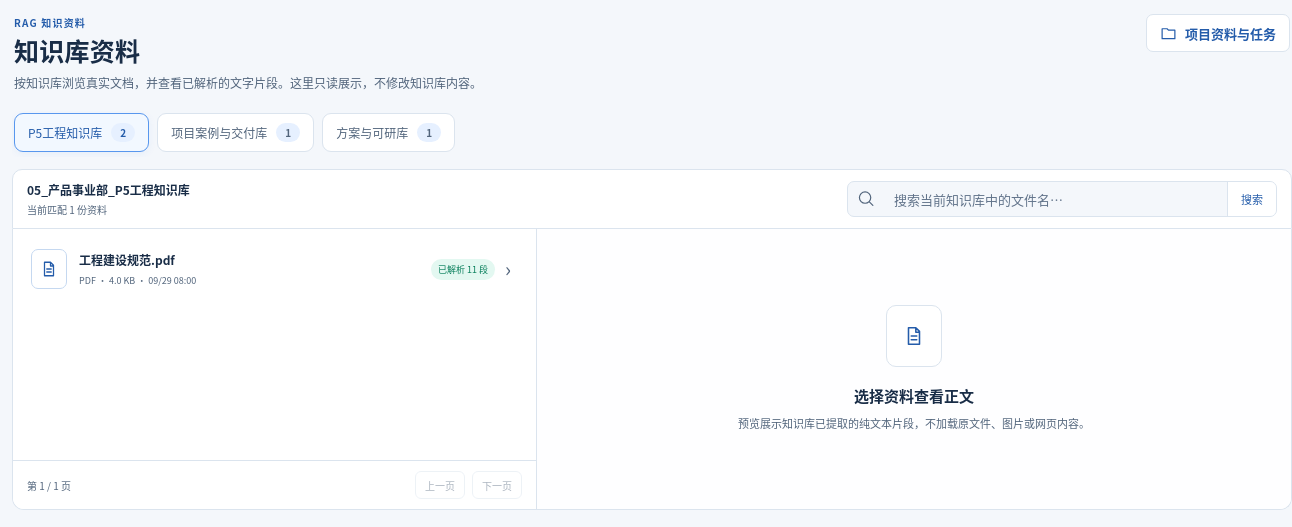
Test case: KnowledgeMaterials › 权限撤销后清空文档和正文并允许重新检查
Click the button "工程建设规范.pdf PDF · 4.0 KB · 09/29 08:00 已解析 11 段 ›". click: (49, 269)
box: [20, 236, 529, 302]
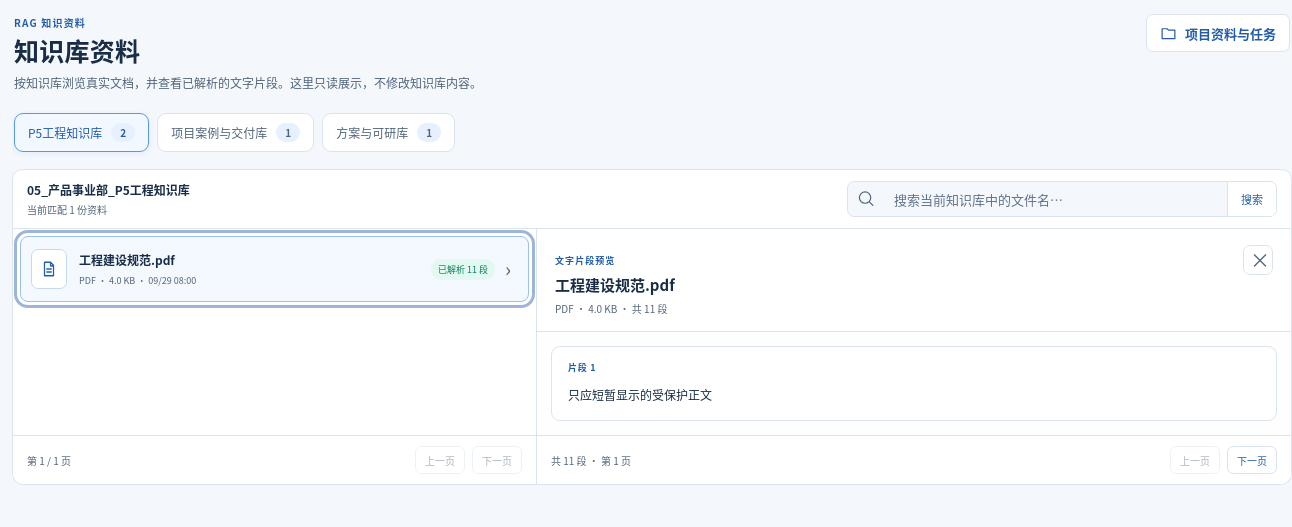
Now the text "只应短暂显示的受保护正文" is shown, box [568, 386, 712, 403]
Click the button "下一页" in the row of "段 · 第". click: (1252, 460)
box: [1227, 446, 1277, 474]
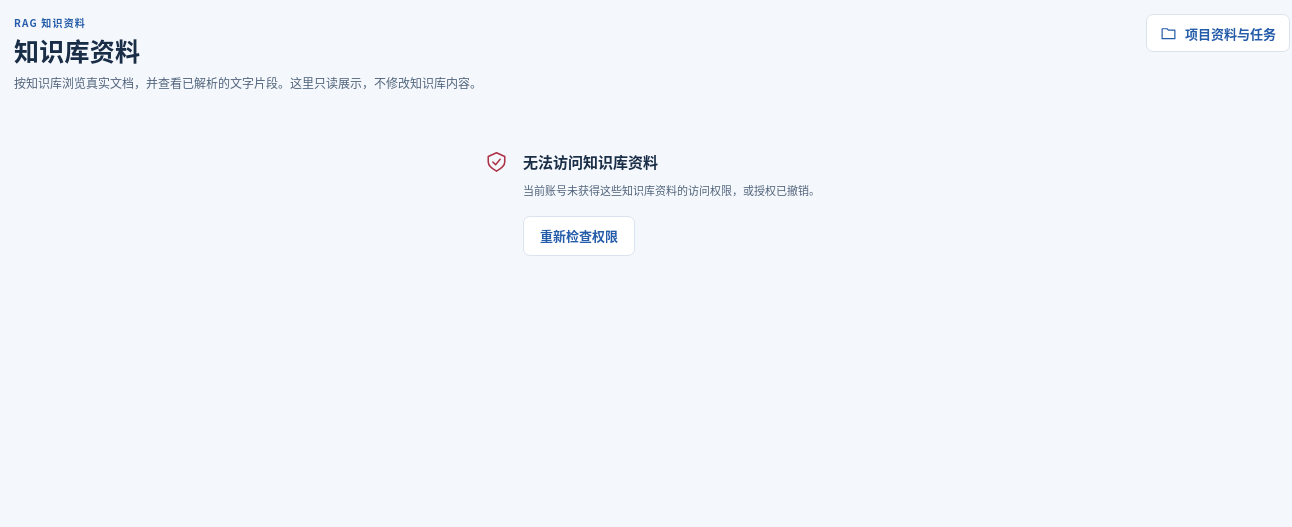
Now the heading "无法访问知识库资料" is shown, box [523, 151, 658, 172]
Now the text "只应短暂显示的受保护正文" is gone
Now the button "工程建设规范.pdf" is gone
